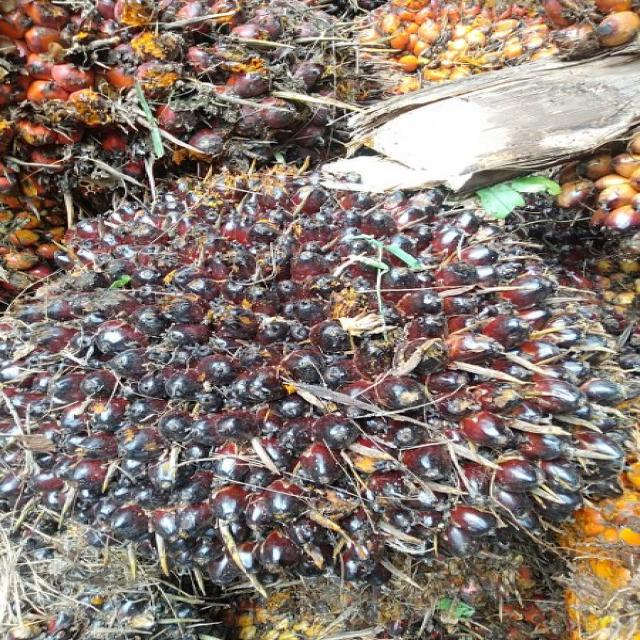fraksi 1: (9, 186, 614, 581)
